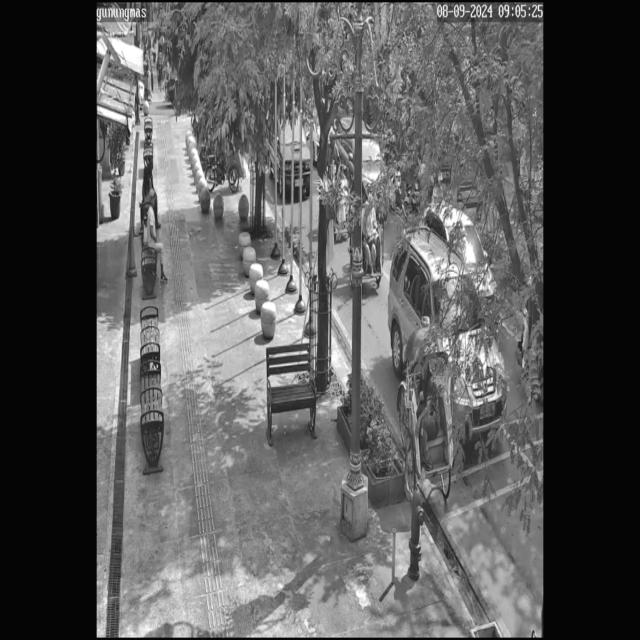Car: (384, 220, 507, 453), (424, 197, 499, 314), (326, 108, 394, 208), (260, 108, 315, 202)
